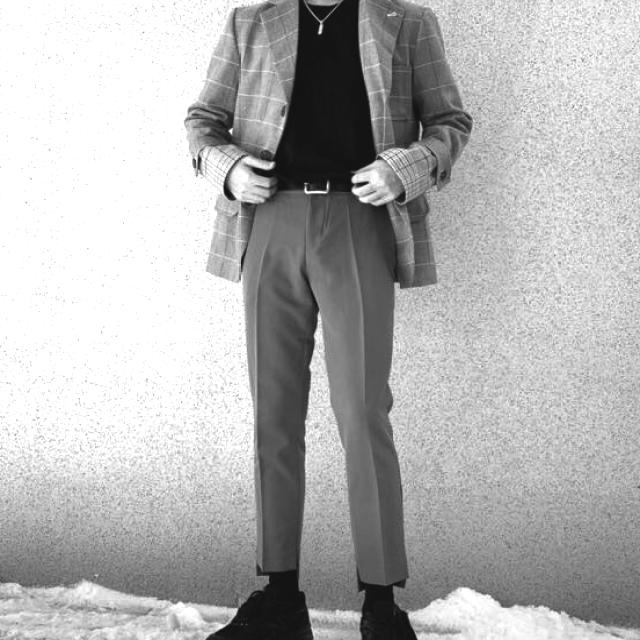blazer: (184, 0, 472, 289)
slacks: (241, 186, 408, 592)
